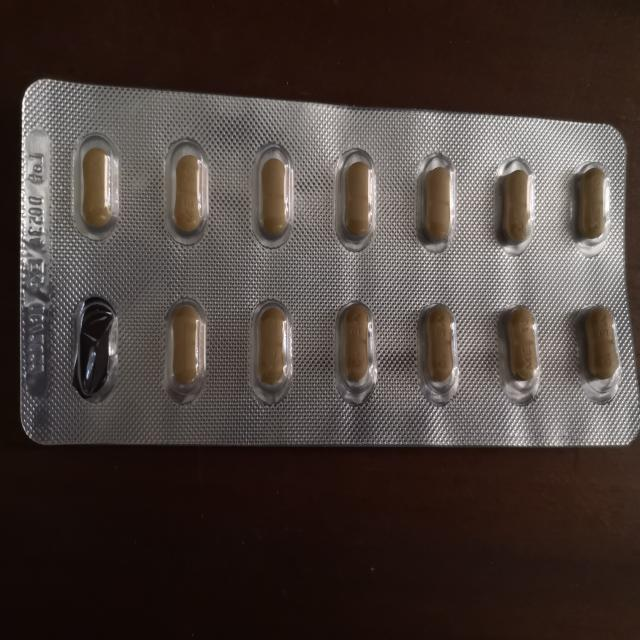Empty: (67, 287, 123, 409)
Pill: (324, 294, 386, 412), (156, 290, 214, 409), (69, 128, 128, 244), (325, 144, 387, 254), (242, 294, 301, 409), (490, 300, 549, 408), (410, 294, 465, 408), (160, 134, 214, 248), (244, 136, 298, 248), (486, 148, 542, 254), (411, 146, 460, 254), (568, 151, 617, 258), (572, 299, 622, 399)
